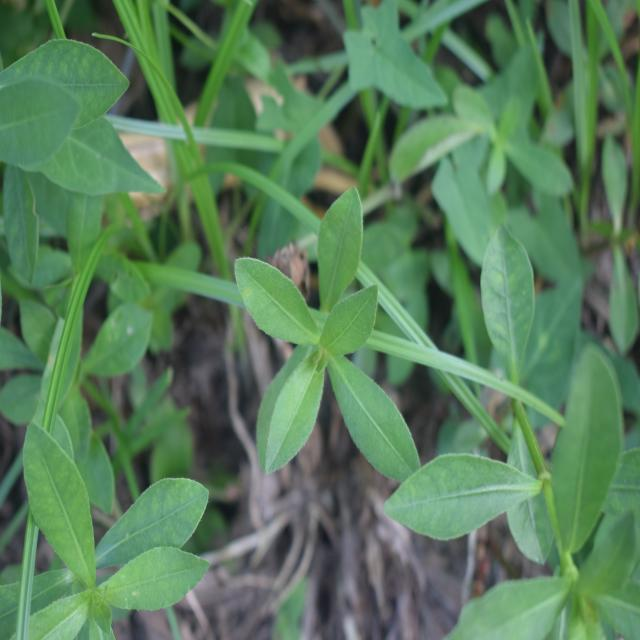Alligatorweed: (219, 215, 429, 486)
